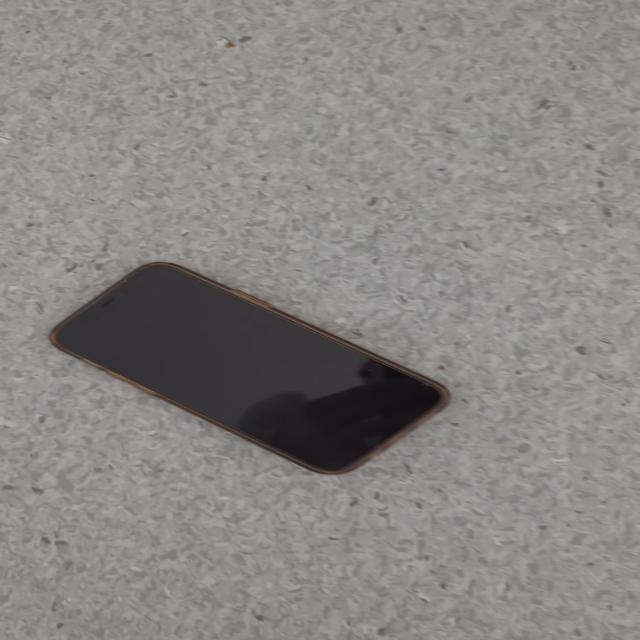phone: (48, 261, 451, 475)
